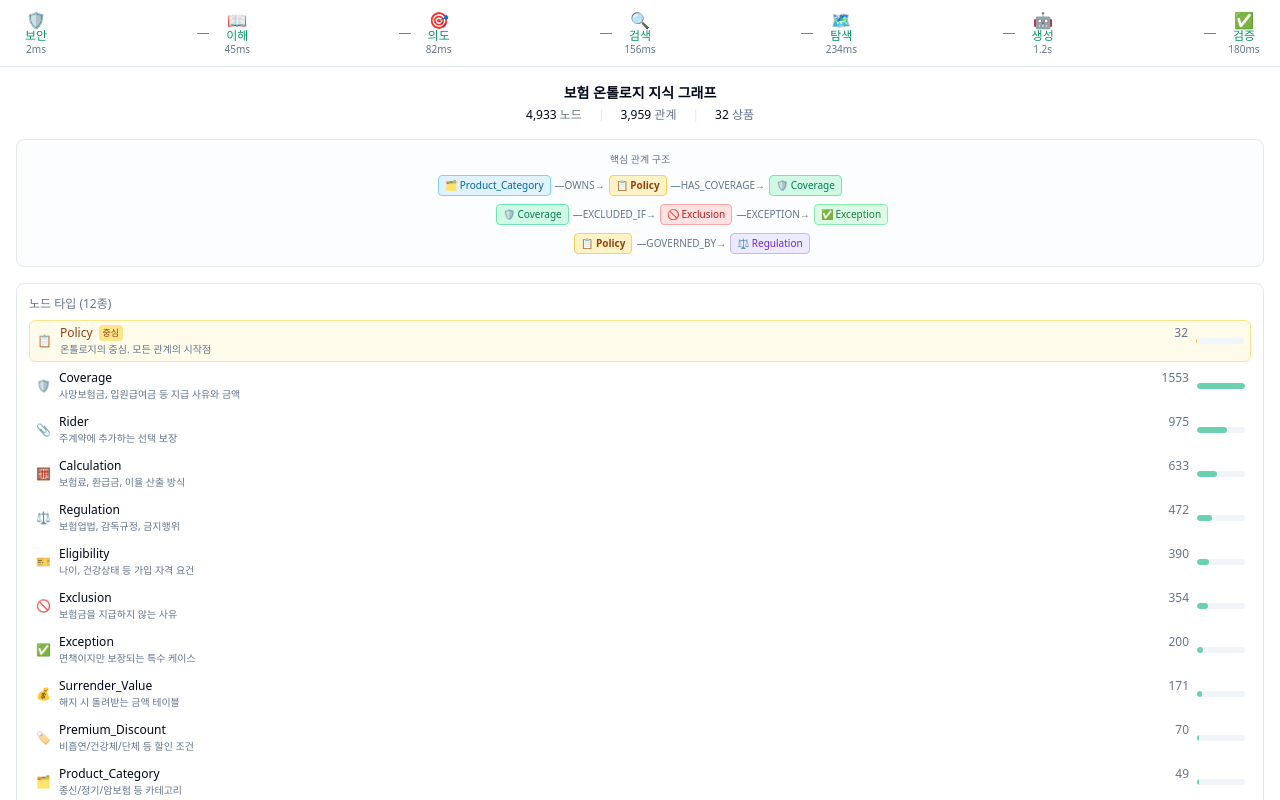
Test: PipelineExplorer › clicking a stage shows its detail
Click the button with test id "stage-node-traverse". click: x=841, y=33
box: 817,8 -> 865,58
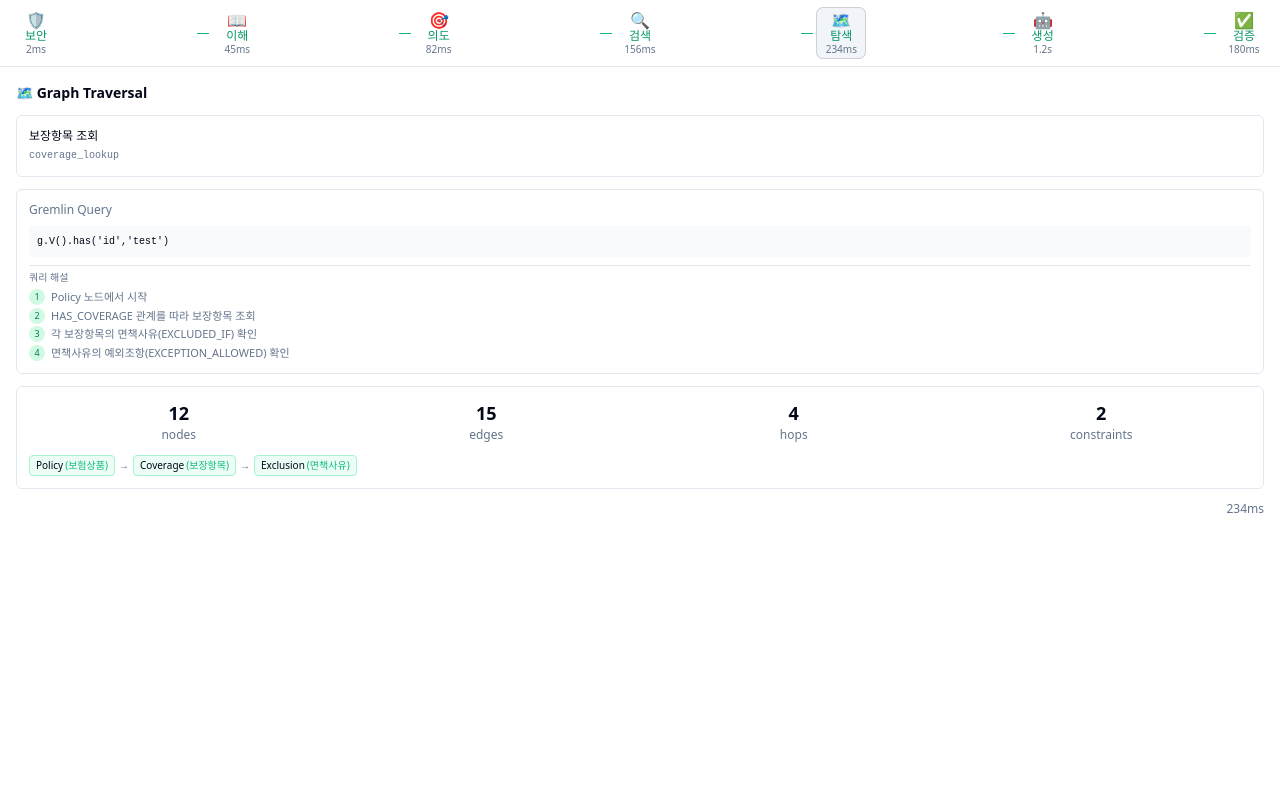
expect the text "보장항목 조회" is shown: met, box 29,127 -> 98,144
